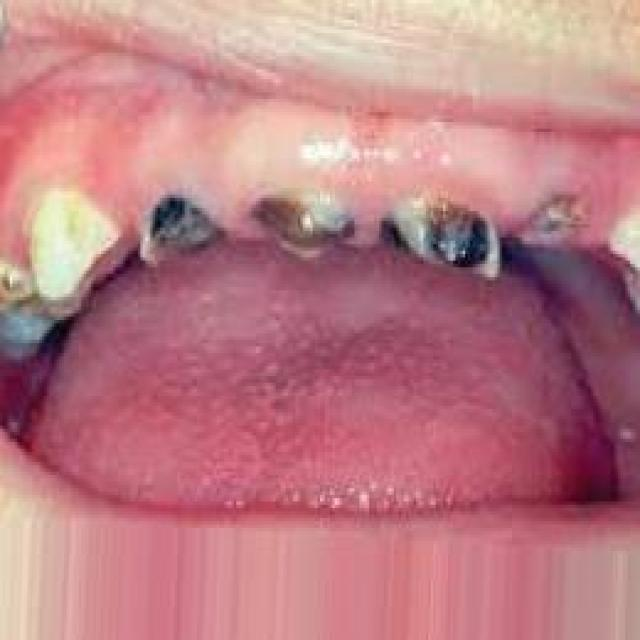caries: (380, 187, 506, 288), (247, 178, 361, 270), (134, 189, 228, 274), (512, 184, 592, 258)
